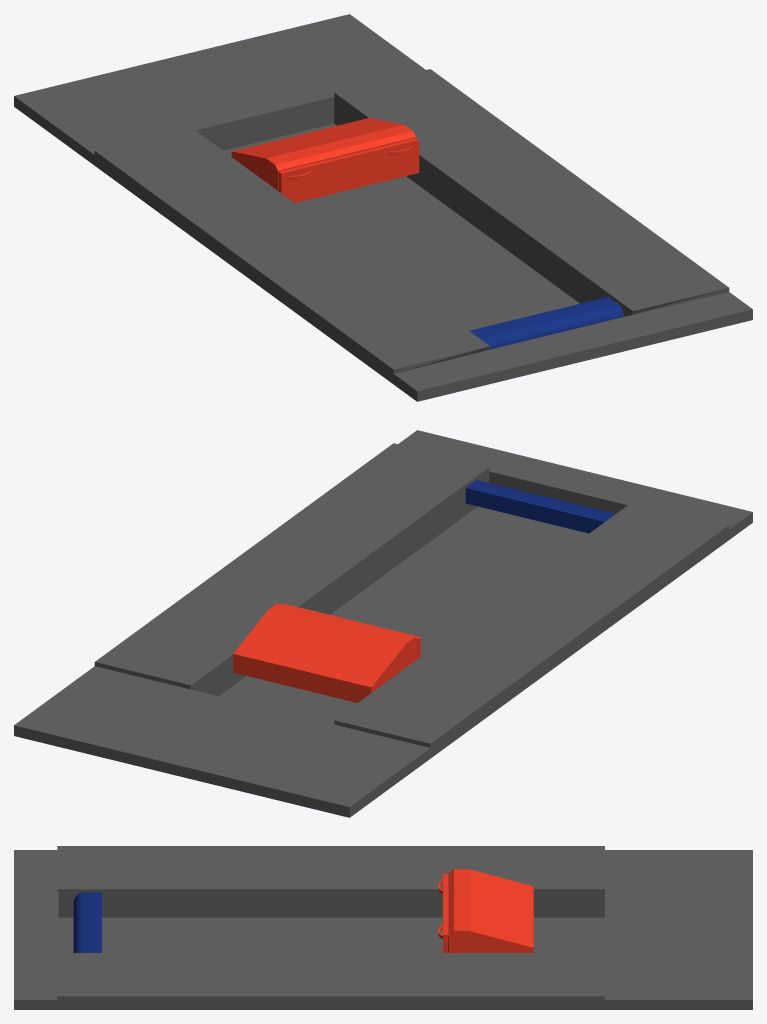
The model's file is SM_garage_platform_01.fbx.
The picture shows the model from 3 angles, top to bottom: view 1: azimuth 30°, elevation 25°; view 2: azimuth 150°, elevation 25°; view 3: azimuth 270°, elevation 25°; orthographic projection. The views are drawn at different scales.
Parts seen in each view (by area): view 1: garage_platform_01; view 2: garage_platform_01; view 3: garage_platform_01.
Boxes of the visible parts, box(x1,y1,x2,y2) form: garage_platform_01: box(14, 14, 752, 401); garage_platform_01: box(14, 430, 752, 817); garage_platform_01: box(14, 846, 752, 1009).
Size of the model in its own units: 264 by 40.23 by 550.
